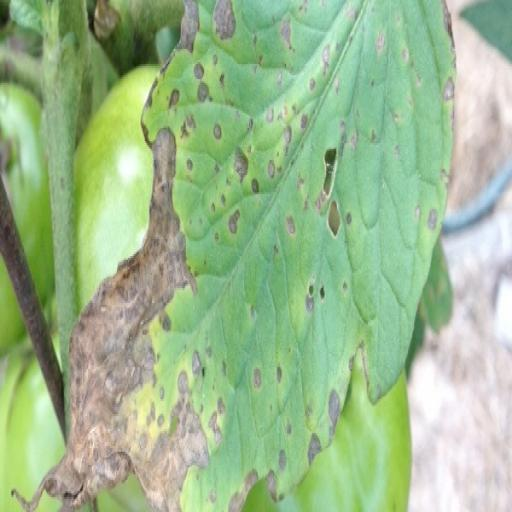disease_tomato: (15, 7, 453, 512)
